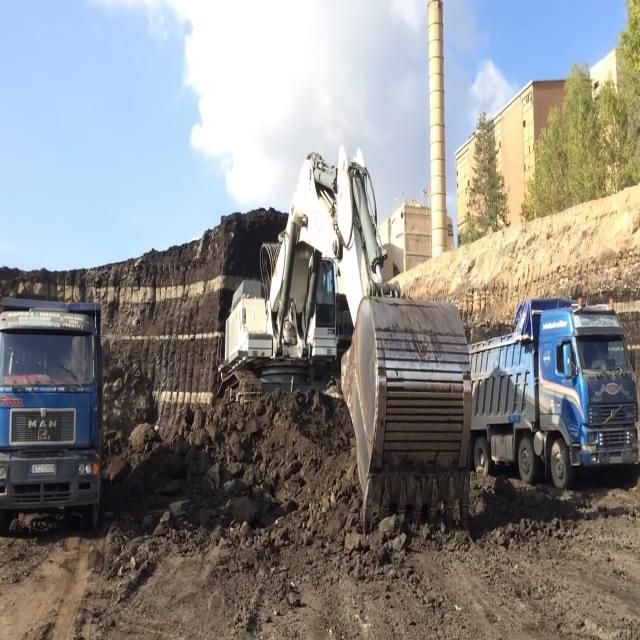excavator: (216, 149, 470, 537)
